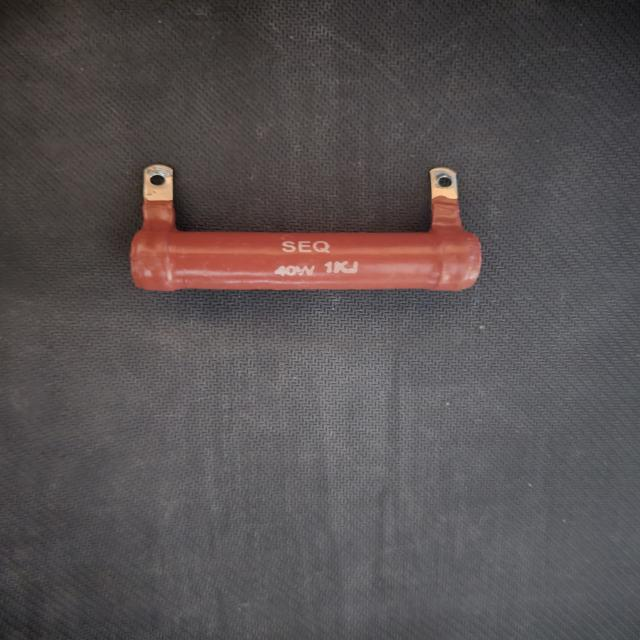resistor: (109, 161, 490, 296)
